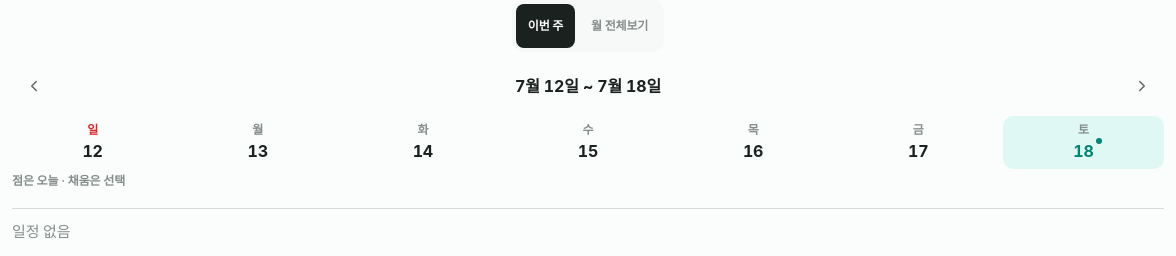
AcademicCalendarGrid — 주/월 탭 › 이전 주/다음 주 버튼으로 한 주씩 이동한다
Click the button named "다음 주" at (1142, 86), box left=1120, top=64, right=1164, bottom=108
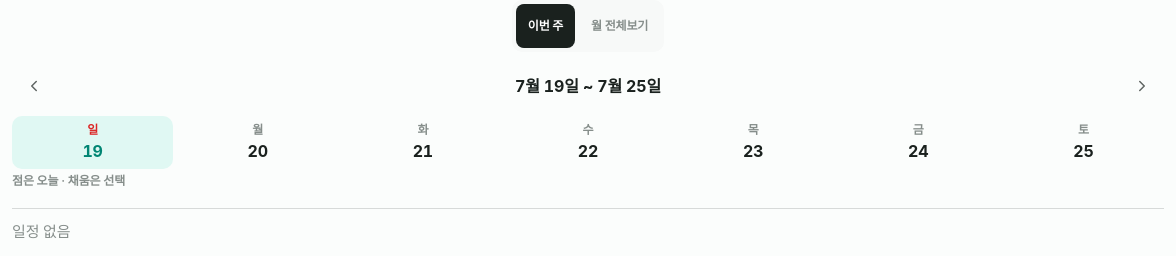
Now the text "7월 19일 ~ 7월 25일" is shown, box left=515, top=74, right=661, bottom=98
Click the button named "이전 주" at (34, 86), box left=12, top=64, right=56, bottom=108
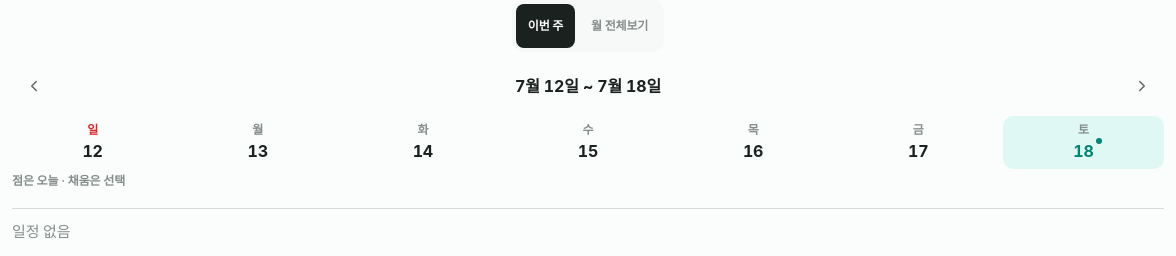
Click the button named "이전 주" at (34, 86), box left=12, top=64, right=56, bottom=108
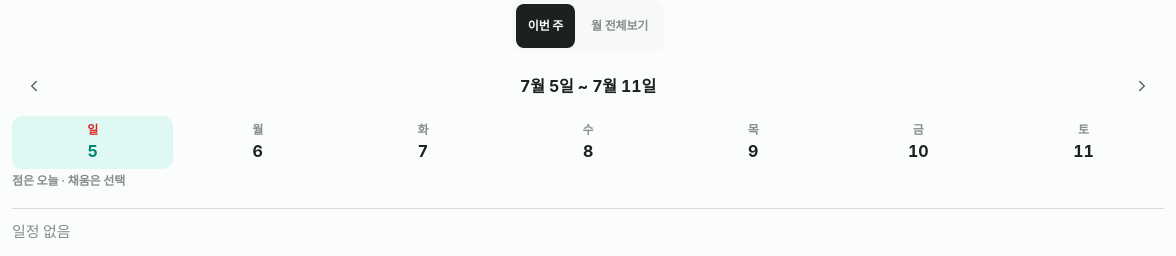
Now the text "7월 5일 ~ 7월 11일" is shown, box left=520, top=74, right=656, bottom=98
